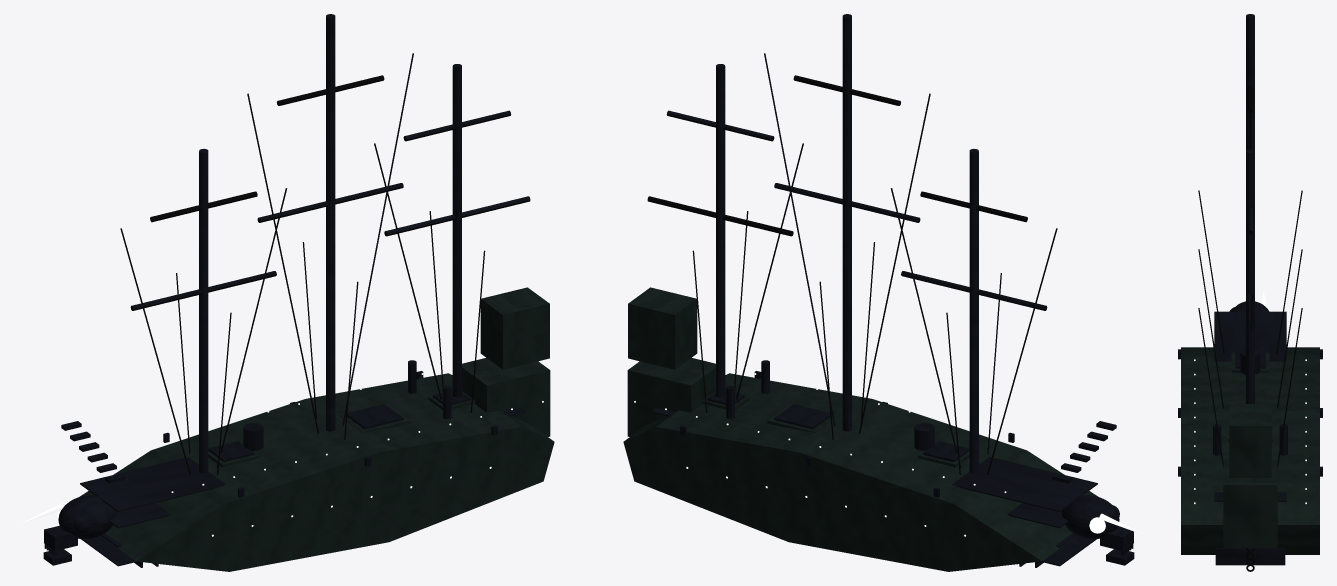
The model's file is galion.glb.
The picture shows the model from 3 angles, left to right: view 1: azimuth 30°, elevation 25°; view 2: azimuth 150°, elevation 25°; view 3: azimuth 270°, elevation 25°; orthographic projection. The views are drawn at different scales.
Visible parts, largest first — view 1: coque, Cube.001, Cube, Cube.075, Cylinder.003, Cylinder.006, Cylinder, Sphere.016, Cylinder.004, Cylinder.001, Cylinder.007, Cube.078 (+3 smaller); view 2: coque, Cube.001, Cube, Cube.075, Cylinder.003, Cylinder.006, Cylinder, Sphere.016, Cylinder.004, Cylinder.001, Cylinder.007, Cube.078 (+4 smaller); view 3: coque, Cube, Cube.001, Cube.075, Cylinder.006, Cube.071, Cylinder.003, Cylinder.014, Cylinder.015, Cylinder.019, Cylinder.016, Cylinder.017 (+8 smaller).
Boxes of the visible parts, <box> form: coque: <box>79,373,554,571</box>; Cube.001: <box>480,287,549,369</box>; Cube: <box>462,357,550,436</box>; Cube.075: <box>80,408,525,511</box>; Cylinder.003: <box>326,14,335,431</box>; Cylinder.006: <box>452,64,461,397</box>; Cylinder: <box>199,148,208,473</box>; Sphere.016: <box>58,495,116,538</box>; Cylinder.004: <box>257,183,403,222</box>; Cylinder.001: <box>130,271,276,310</box>; Cylinder.007: <box>384,196,530,236</box>; Cube.078: <box>346,404,403,429</box>; coque: <box>623,373,1098,571</box>; Cube.001: <box>628,287,697,369</box>; Cube: <box>627,357,715,436</box>; Cube.075: <box>652,408,1097,511</box>; Cylinder.003: <box>842,14,851,431</box>; Cylinder.006: <box>716,64,725,397</box>; Cylinder: <box>969,148,978,473</box>; Sphere.016: <box>1061,495,1119,538</box>; Cylinder.004: <box>774,183,920,222</box>; Cylinder.001: <box>901,271,1047,310</box>; Cylinder.007: <box>647,196,793,236</box>; Cube.078: <box>774,404,831,429</box>; coque: <box>1181,347,1319,554</box>; Cube: <box>1223,455,1277,547</box>; Cube.001: <box>1229,404,1271,477</box>; Cube.075: <box>1214,311,1286,501</box>; Cylinder.006: <box>1246,149,1254,403</box>; Cube.071: <box>1215,548,1285,565</box>; Cylinder.003: <box>1246,14,1254,150</box>; Cylinder.014: <box>1198,190,1224,353</box>; Cylinder.015: <box>1276,190,1302,353</box>; Cylinder.019: <box>1277,308,1302,468</box>; Cylinder.016: <box>1198,249,1223,408</box>; Cylinder.017: <box>1277,249,1302,408</box>.
Size of the model in its own units: 9.51 by 8.82 by 2.4.
Materials: 3 (3 with a texture image).
